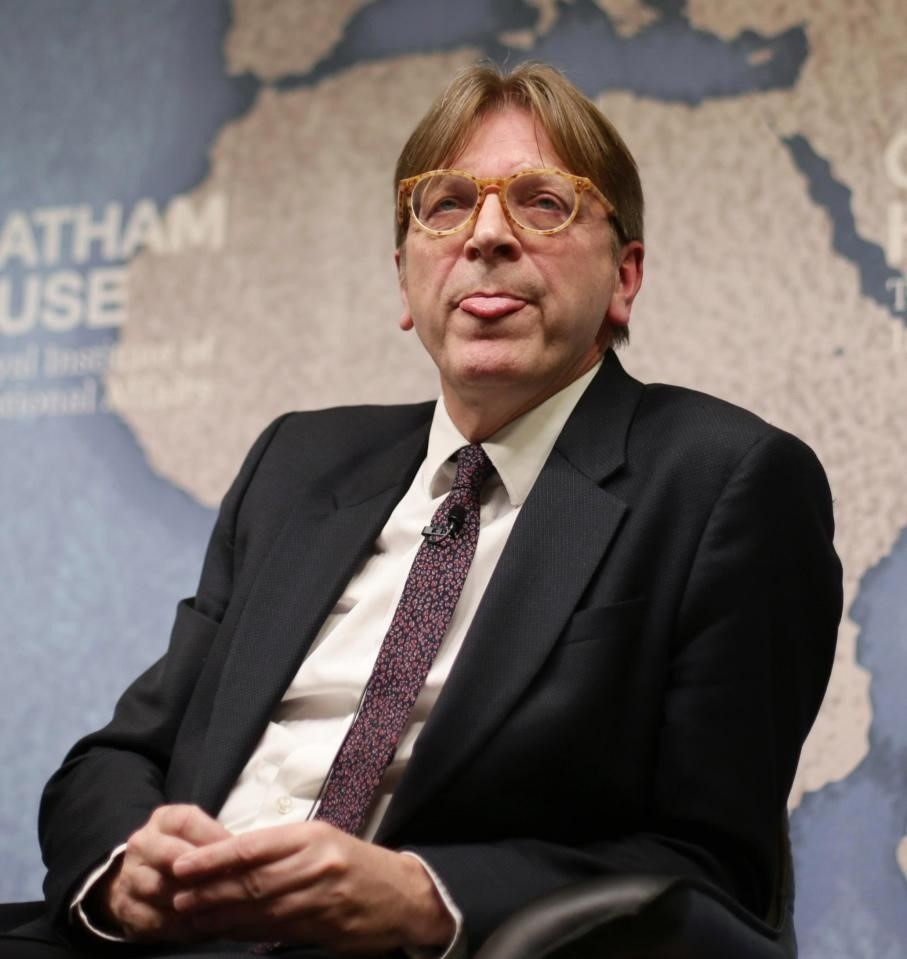face_no_mask: (403, 115, 619, 376)
